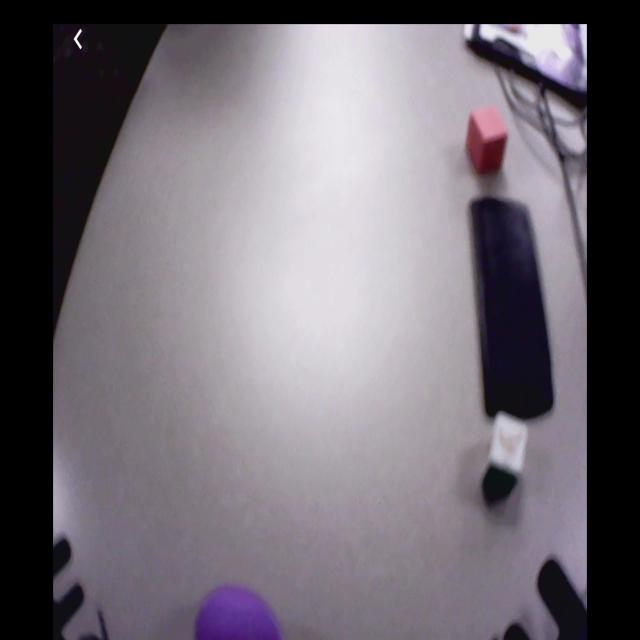ball: (194, 585, 285, 640)
